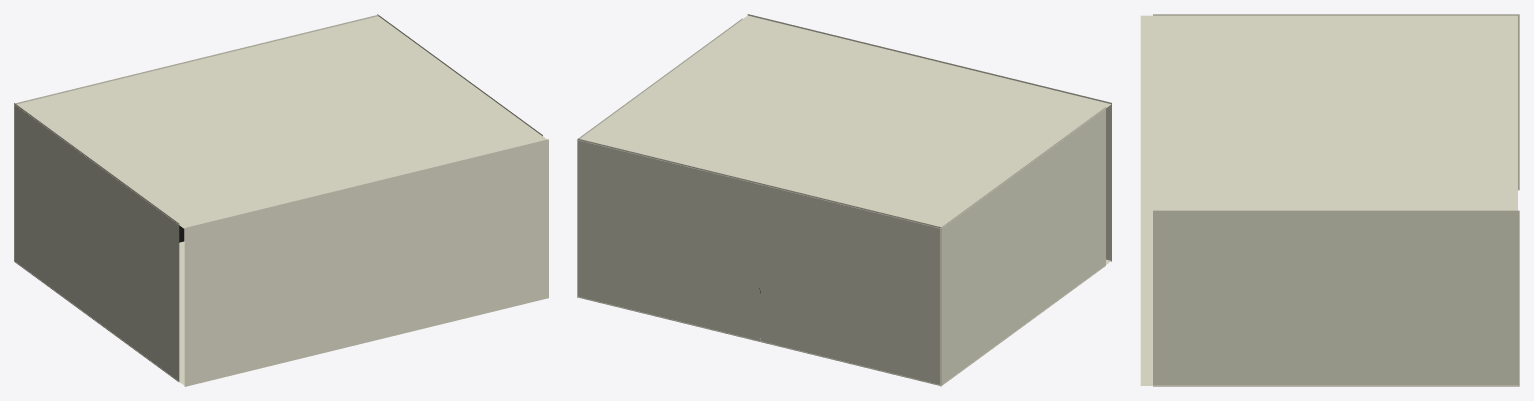
The model's file is workspace-desktop.glb.
3 renders of one model, left to right at view 1: azimuth 30°, elevation 25°; view 2: azimuth 150°, elevation 25°; view 3: azimuth 270°, elevation 25°, orthographic. The views are drawn at different scales.
Parts seen in each view (by area): view 1: Plane; view 2: Plane; view 3: Plane.
Boxes of the visible parts, <box> form: Plane: <box>14,14,548,386</box>; Plane: <box>577,14,1111,386</box>; Plane: <box>1140,14,1519,386</box>.
Size of what is drawn, in the model's own units: 4.71 by 1.96 by 3.83.
